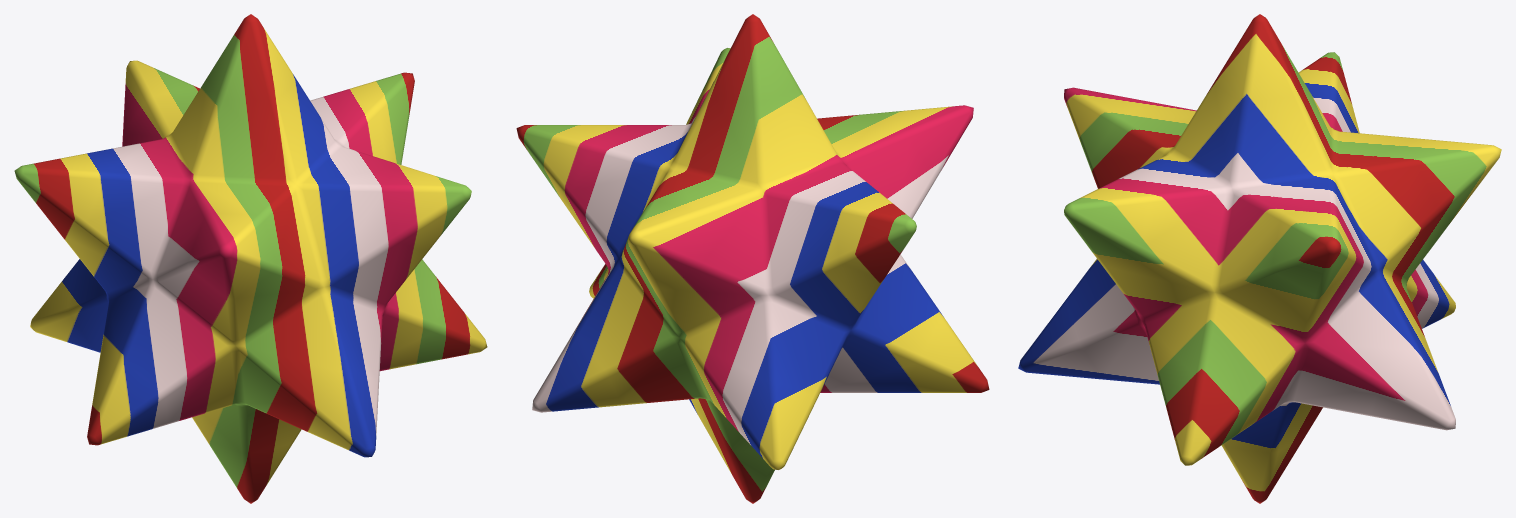
The model's file is B-6_Onstick.fbx.
3 renders of one model, left to right at view 1: azimuth 30°, elevation 25°; view 2: azimuth 150°, elevation 25°; view 3: azimuth 270°, elevation 25°, orthographic.
Visible parts, largest first — view 1: B-6; view 2: B-6; view 3: B-6.
Part boxes in pixels (<box>): B-6: <box>14,14,487,503</box>; B-6: <box>516,14,989,503</box>; B-6: <box>1018,14,1501,503</box>.
Bounding box in the file's own units: 115 × 121 × 135.
